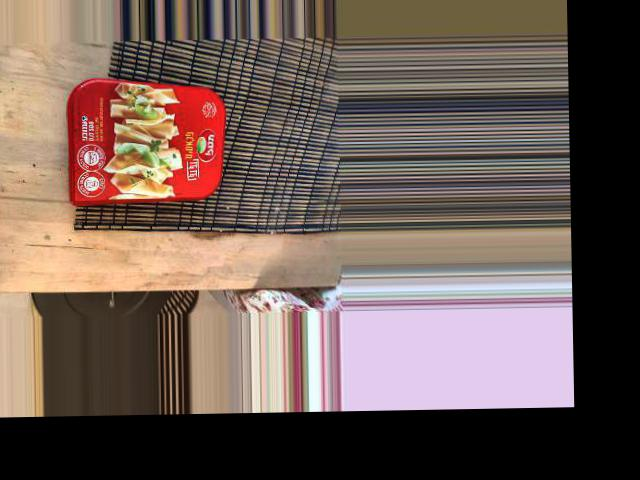cheese: (155, 22, 293, 195)
